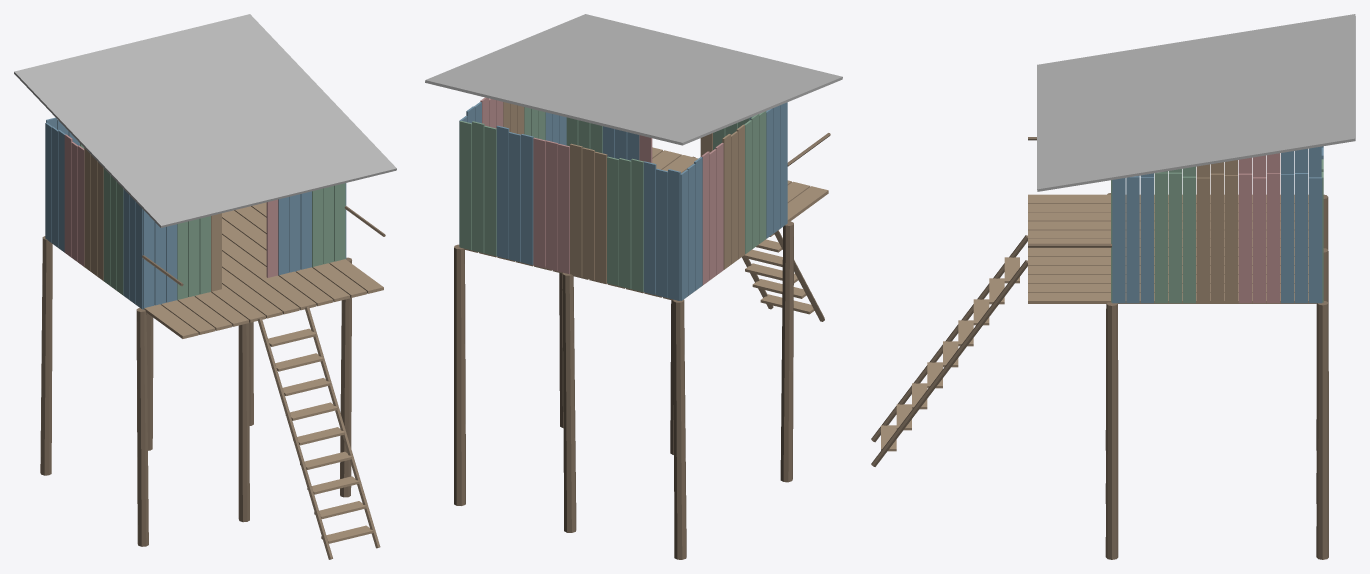
Rendered from palafita.glb.
3 renders of one model, left to right at view 1: azimuth 30°, elevation 25°; view 2: azimuth 150°, elevation 25°; view 3: azimuth 270°, elevation 25°, orthographic. The views are drawn at different scales.
Parts seen in each view (by area): view 1: palafita; view 2: palafita; view 3: palafita.
Boxes of the visible parts, <box> form: palafita: <box>14,14,396,559</box>; palafita: <box>425,14,842,559</box>; palafita: <box>871,14,1355,559</box>.
Size of the model in its own units: 4.2 by 6.72 by 6.9.
